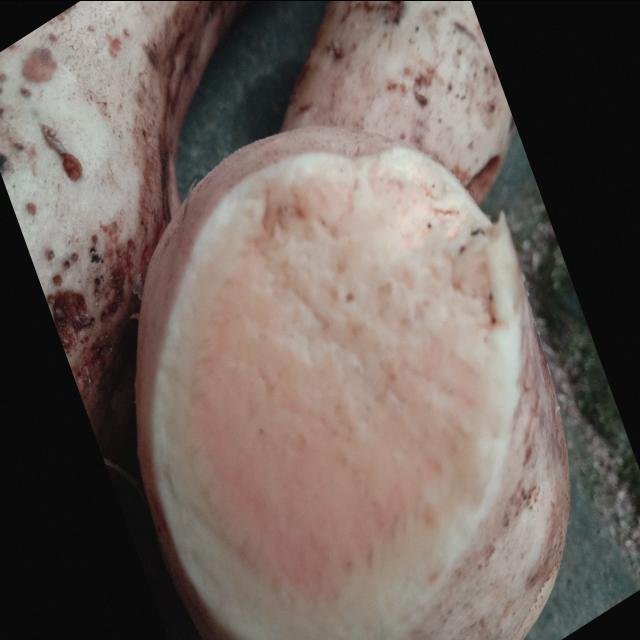Healthy Sweet Potato: (154, 147, 521, 638)
